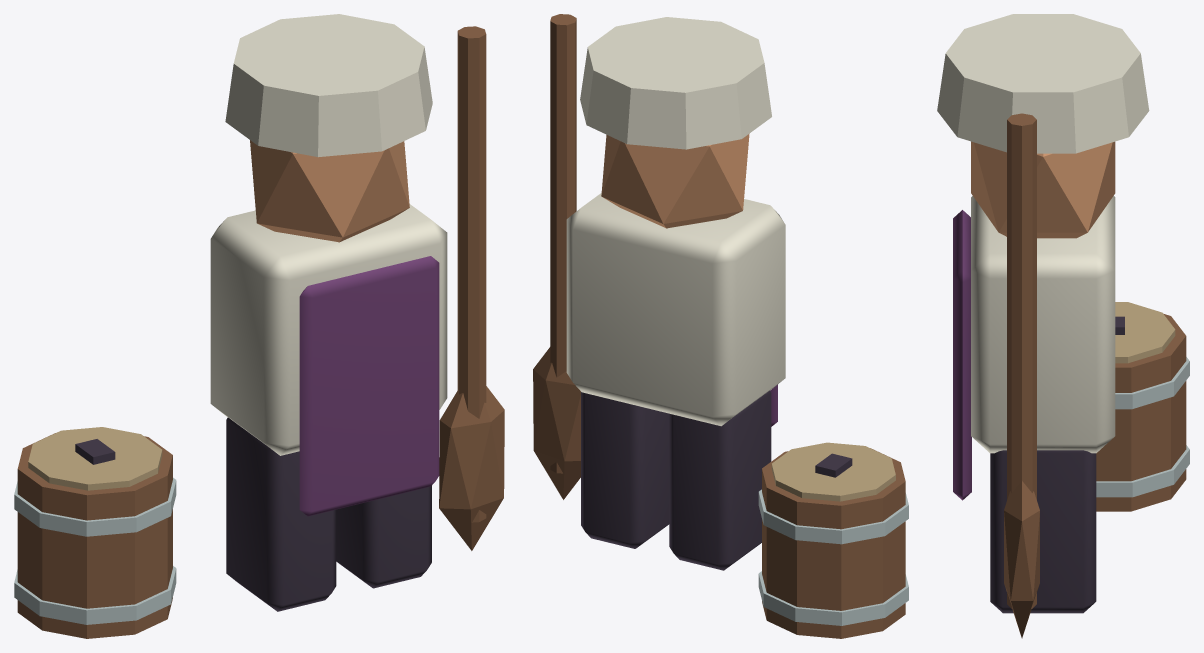
Rendered from brewer.glb.
3 views of the same model, side by side, from view 1: azimuth 30°, elevation 25°; view 2: azimuth 150°, elevation 25°; view 3: azimuth 270°, elevation 25° (orthographic). The views are drawn at different scales.
Visible parts, largest first — view 1: Cube.058, Cube.057, Cone.240, Cone.242, Cube.055, Icosphere.151, Cone.241, Icosphere.152, Cube.056, Cone.245, Cone.244, Cone.243 (+1 smaller); view 2: Cube.057, Cone.240, Cone.242, Cube.055, Cube.056, Icosphere.151, Cone.241, Icosphere.152, Cone.245, Cone.243, Cone.244, Cube.059; view 3: Cube.057, Cone.240, Cube.056, Cone.241, Cone.242, Icosphere.151, Cube.058, Icosphere.152, Cone.245, Cone.243, Cone.244.
Boxes of the visible parts, bbox=[...] form: Cube.058: bbox=[299, 256, 439, 516]; Cube.057: bbox=[210, 204, 447, 455]; Cone.240: bbox=[225, 14, 432, 157]; Cone.242: bbox=[17, 433, 172, 638]; Cube.055: bbox=[226, 417, 336, 611]; Icosphere.151: bbox=[250, 140, 409, 242]; Cone.241: bbox=[457, 26, 486, 522]; Icosphere.152: bbox=[439, 386, 504, 550]; Cube.056: bbox=[336, 486, 431, 588]; Cone.245: bbox=[28, 427, 162, 490]; Cone.244: bbox=[14, 477, 176, 536]; Cone.243: bbox=[14, 566, 176, 624]; Cube.057: bbox=[566, 193, 785, 426]; Cone.240: bbox=[580, 17, 771, 149]; Cone.242: bbox=[762, 448, 905, 638]; Cube.055: bbox=[669, 390, 771, 570]; Cube.056: bbox=[581, 392, 669, 548]; Icosphere.151: bbox=[601, 133, 749, 228]; Cone.241: bbox=[550, 14, 576, 473]; Icosphere.152: bbox=[533, 347, 580, 499]; Cone.245: bbox=[771, 442, 895, 501]; Cone.243: bbox=[758, 571, 908, 625]; Cone.244: bbox=[758, 489, 908, 544]; Cube.059: bbox=[815, 453, 852, 477]; Cube.057: bbox=[971, 196, 1115, 453]; Cone.240: bbox=[937, 14, 1149, 153]; Cube.056: bbox=[990, 450, 1096, 613]; Cone.241: bbox=[1007, 113, 1036, 608]; Cone.242: bbox=[1096, 313, 1186, 511]; Icosphere.151: bbox=[971, 141, 1115, 238]; Cube.058: bbox=[953, 210, 971, 500]; Icosphere.152: bbox=[1004, 481, 1039, 638]; Cone.245: bbox=[1115, 302, 1175, 363]; Cone.243: bbox=[1096, 445, 1189, 497]; Cone.244: bbox=[1115, 357, 1189, 409].
Size of the model in its own units: 1.19 by 1.36 by 0.5955.
